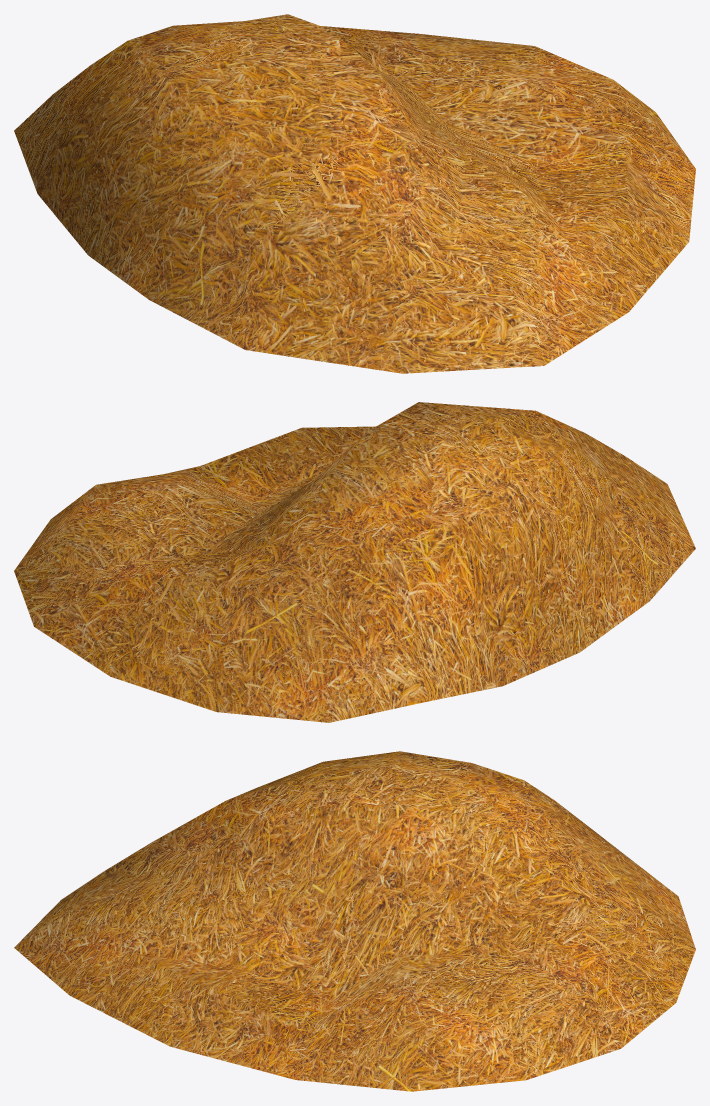
The model's file is RC_Hay_02.gltf.
The picture shows the model from 3 angles, top to bottom: view 1: azimuth 30°, elevation 25°; view 2: azimuth 150°, elevation 25°; view 3: azimuth 270°, elevation 25°; orthographic projection. The views are drawn at different scales.
Visible parts, largest first — view 1: RC_Hay_02(Clone); view 2: RC_Hay_02(Clone); view 3: RC_Hay_02(Clone).
Boxes of the visible parts, left/top/right/bottom form: RC_Hay_02(Clone): left=14, top=14, right=695, bottom=373; RC_Hay_02(Clone): left=14, top=402, right=695, bottom=722; RC_Hay_02(Clone): left=14, top=751, right=695, bottom=1091.
Bounding box in the file's own units: 2.48 × 0.7472 × 2.97.
Materials: 1 (1 with a texture image).
